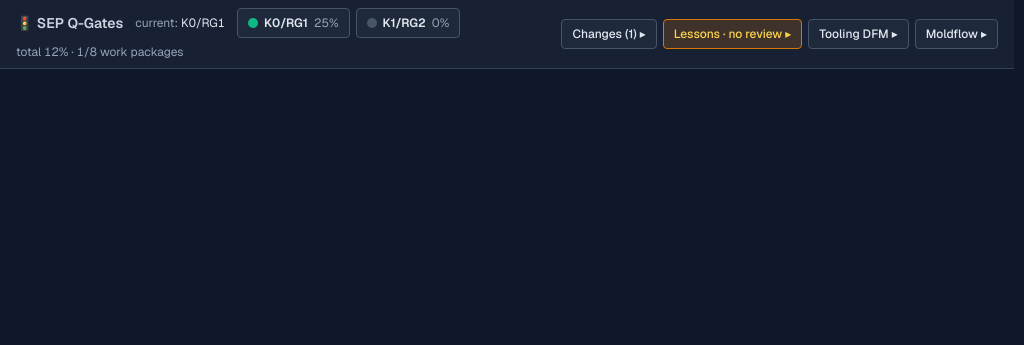
ProjectStatusNav › opens the clicked gate review below the bar, and another gate replaces it
Step 1. Click the button "K1/RG2 0%" → (408, 23), box [356,8,460,38]
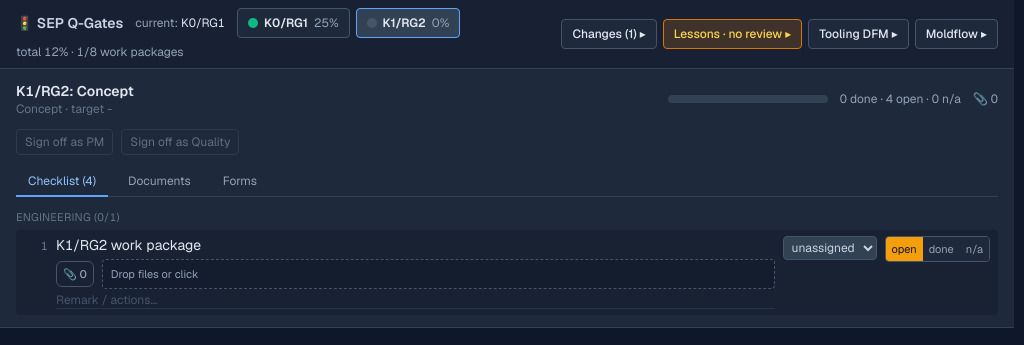
Now the button "K1/RG2 0%" is expanded, box [356,8,460,38]
Now the text "K1/RG2 work package" is shown, box [56,236,201,254]
Step 2. Click the button "K0/RG1 25%" → (293, 23), box [237,8,350,38]
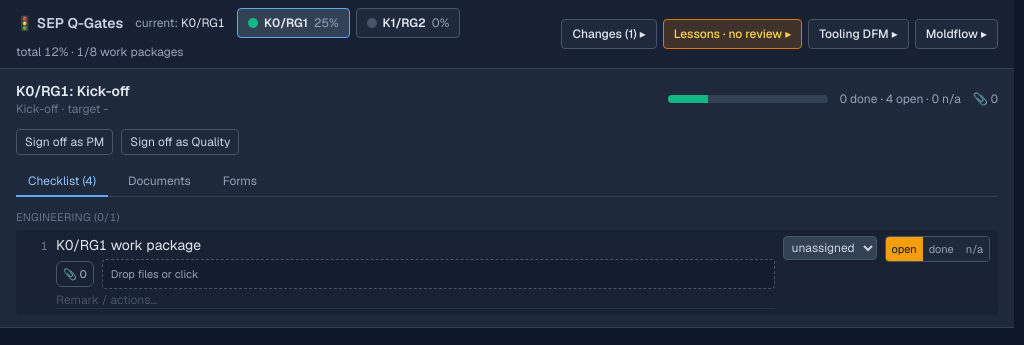
Now the button "K1/RG2 0%" is collapsed, box [356,8,460,38]
Now the text "K0/RG1 work package" is shown, box [56,236,201,254]
Now the text "K1/RG2 work package" is gone
